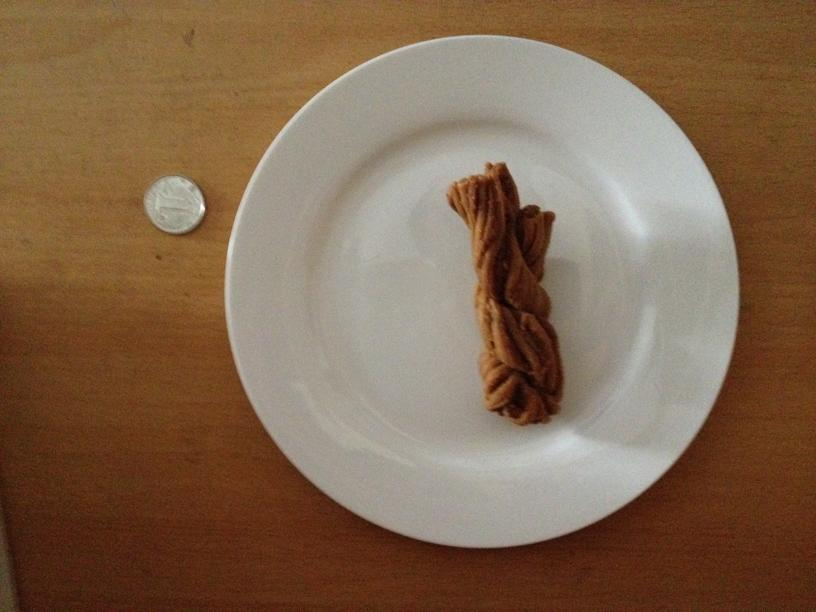coin: (143, 175, 206, 237)
fired_dough_twist: (441, 165, 562, 422)
